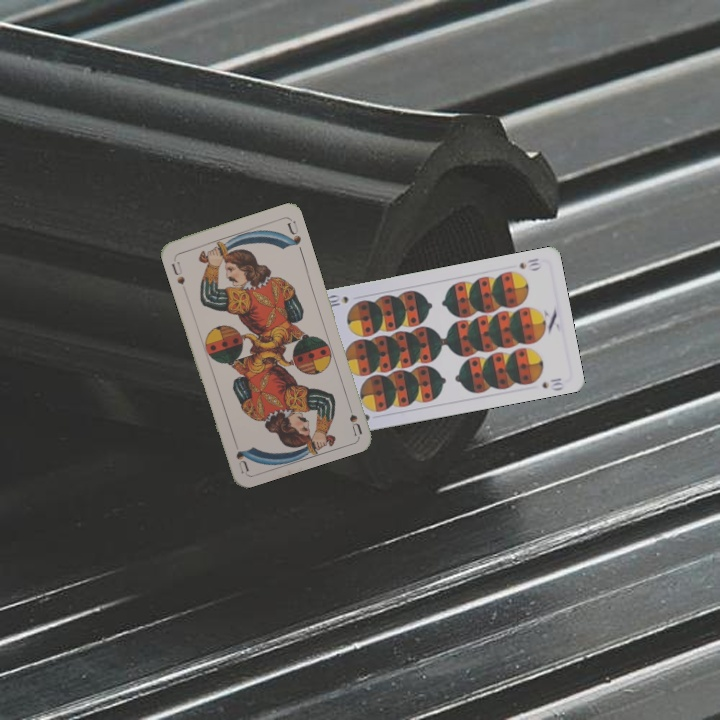S10: (515, 254, 544, 273)
SU: (343, 397, 364, 437), (168, 254, 187, 287)
